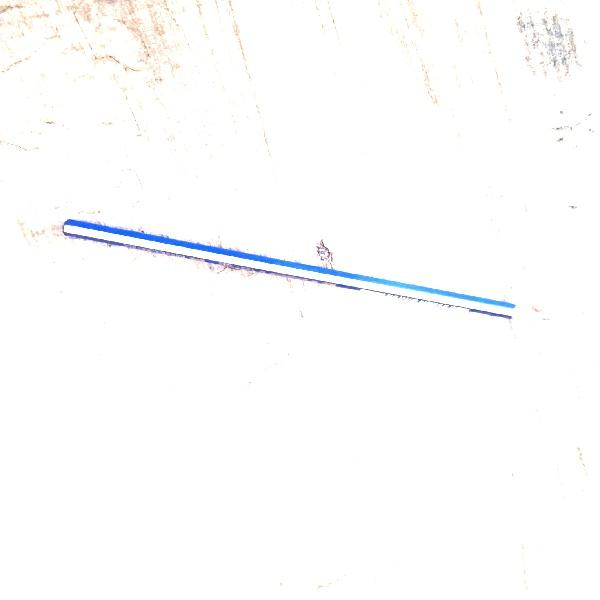pencil: (58, 213, 562, 340)
